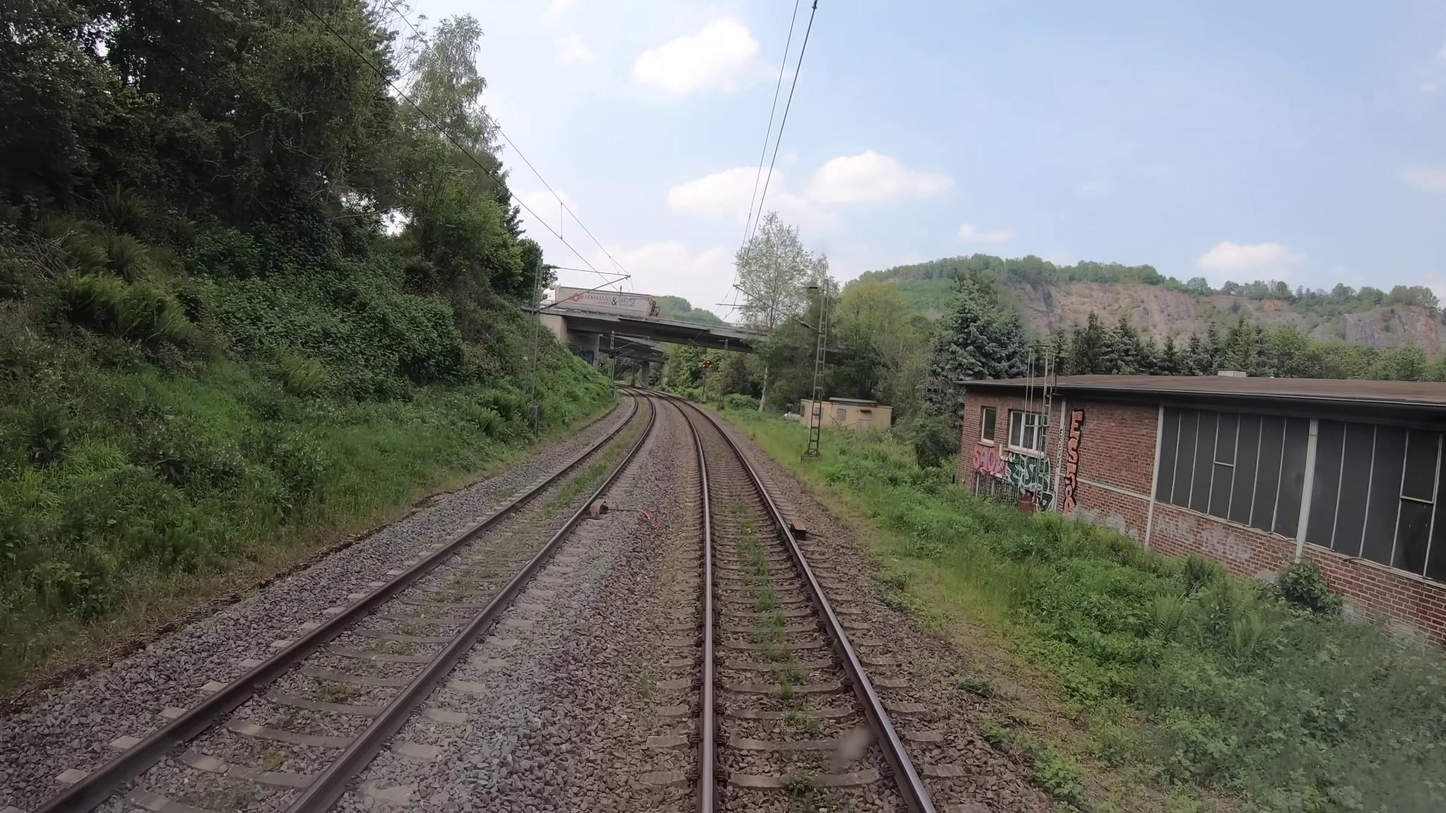Plant: (729, 498, 822, 798), (543, 443, 626, 511)
